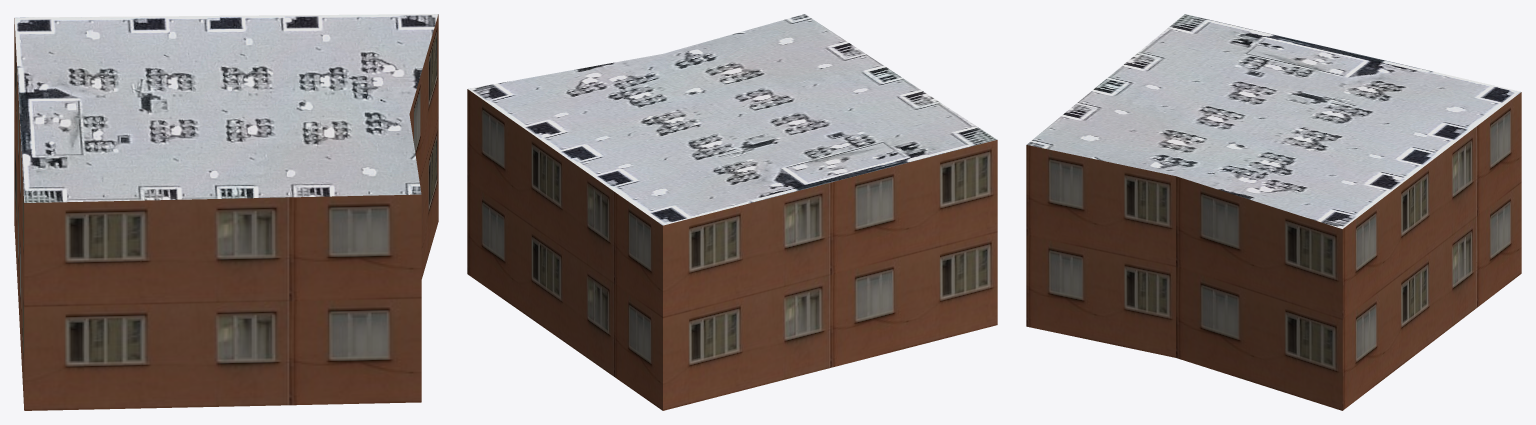
Rendered from ResTex__744.fbx.
The picture shows the model from 3 angles, left to right: view 1: azimuth 30°, elevation 25°; view 2: azimuth 150°, elevation 25°; view 3: azimuth 270°, elevation 25°; orthographic projection. The views are drawn at different scales.
Parts seen in each view (by area): view 1: CityEngineMaterial_20_m, CityEngineMaterial_4_m; view 2: CityEngineMaterial_20_m, CityEngineMaterial_4_m; view 3: CityEngineMaterial_20_m, CityEngineMaterial_4_m.
Boxes of the visible parts, x1,y1,x2,y2 form: CityEngineMaterial_20_m: [14, 14, 438, 410]; CityEngineMaterial_4_m: [14, 14, 438, 202]; CityEngineMaterial_20_m: [467, 89, 997, 410]; CityEngineMaterial_4_m: [468, 14, 996, 225]; CityEngineMaterial_20_m: [1026, 92, 1521, 410]; CityEngineMaterial_4_m: [1026, 14, 1520, 228].
Bounding box in the file's own units: 15.24 × 6 × 14.81.
Materials: 2 (2 with a texture image).
